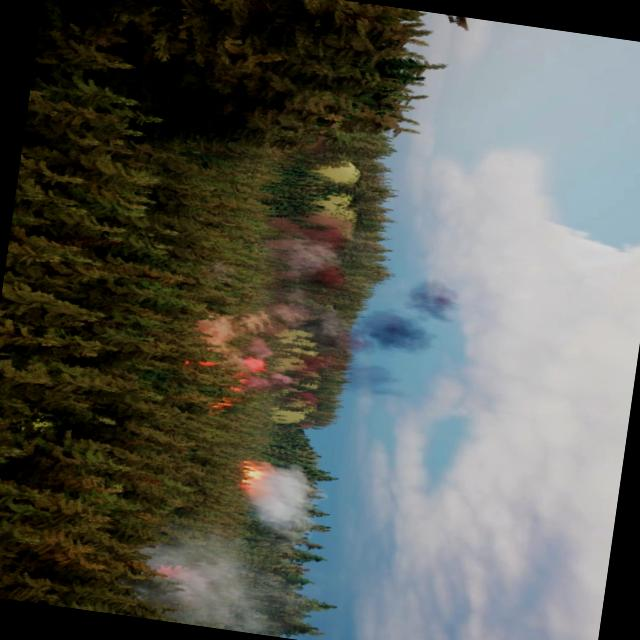fire: (170, 348, 268, 418), (242, 460, 270, 492)
smoke: (143, 454, 320, 638), (288, 272, 471, 426)
